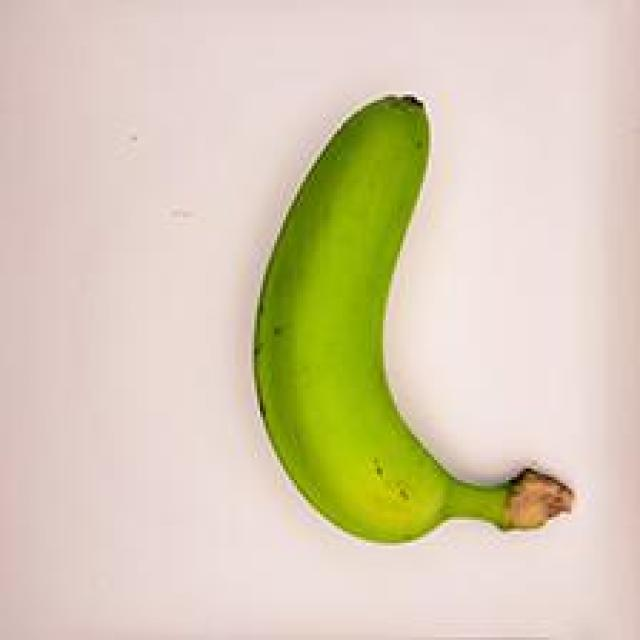unripe: (226, 89, 587, 563)
